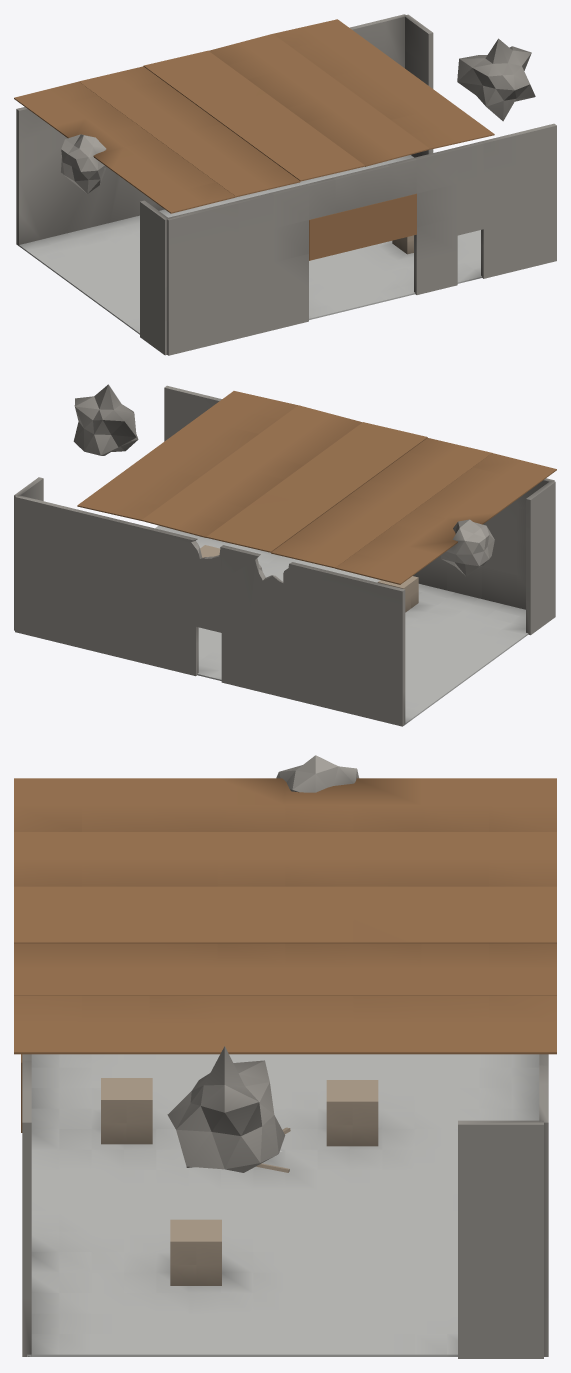
The model's file is galpao_r1.glb.
The picture shows the model from 3 angles, top to bottom: view 1: azimuth 30°, elevation 25°; view 2: azimuth 150°, elevation 25°; view 3: azimuth 270°, elevation 25°; orthographic projection. The views are drawn at different scales.
Parts seen in each view (by area): view 1: ext, longe, dentro; view 2: ext, longe, dentro, detalhe; view 3: longe, dentro, ext, detalhe.
Boxes of the visible parts, left/top/right/bottom form: ext: left=16, top=14, right=556, bottom=355; longe: left=14, top=19, right=494, bottom=260; dentro: left=18, top=155, right=482, bottom=334; ext: left=14, top=384, right=555, bottom=726; longe: left=77, top=391, right=556, bottom=584; dentro: left=155, top=525, right=528, bottom=725; detalhe: left=200, top=545, right=418, bottom=612; longe: left=14, top=778, right=556, bottom=1132; dentro: left=27, top=1054, right=539, bottom=1356; ext: left=22, top=755, right=548, bottom=1358; detalhe: left=101, top=1078, right=378, bottom=1285.
Size of what is drawn, in the model's own units: 20.44 by 8.16 by 12.6.
